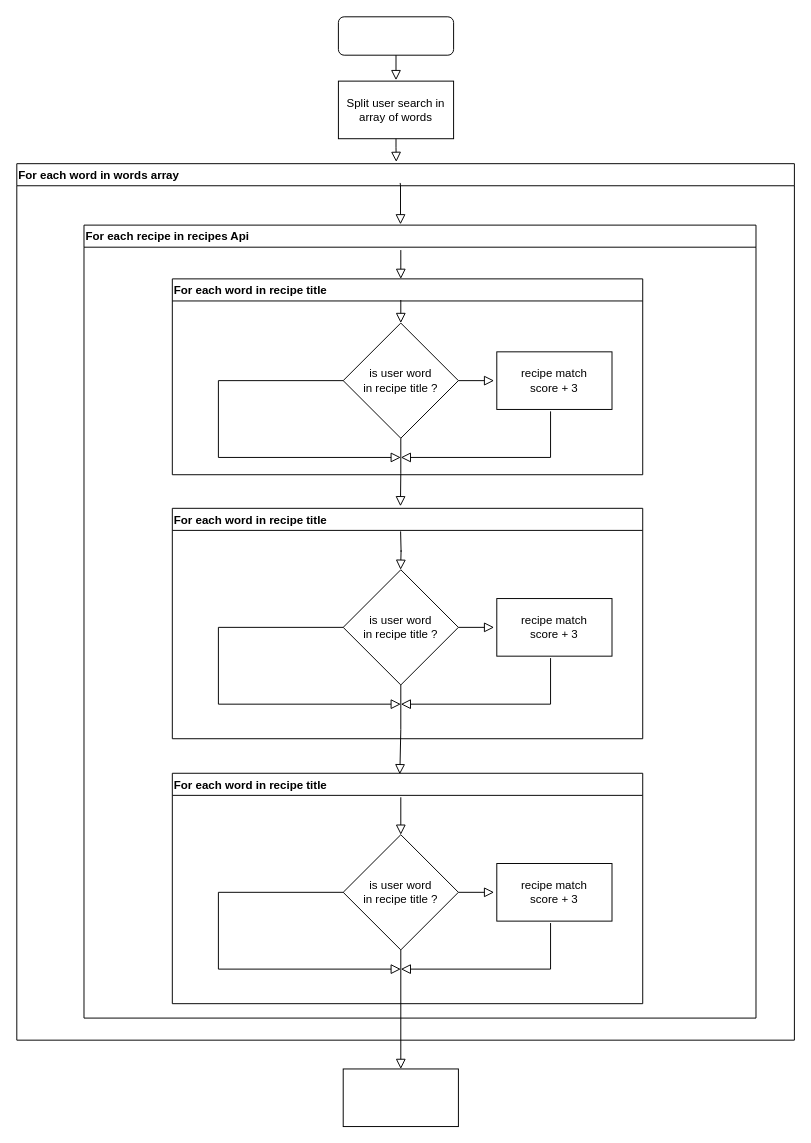
Some shapes in this 811 by 1143 pixel diagram are drawn without their labels. Each missing label, with the centre of its shape:
"Recipe score" goes at (x=400, y=1097).
"User search" goes at (x=395, y=35).
